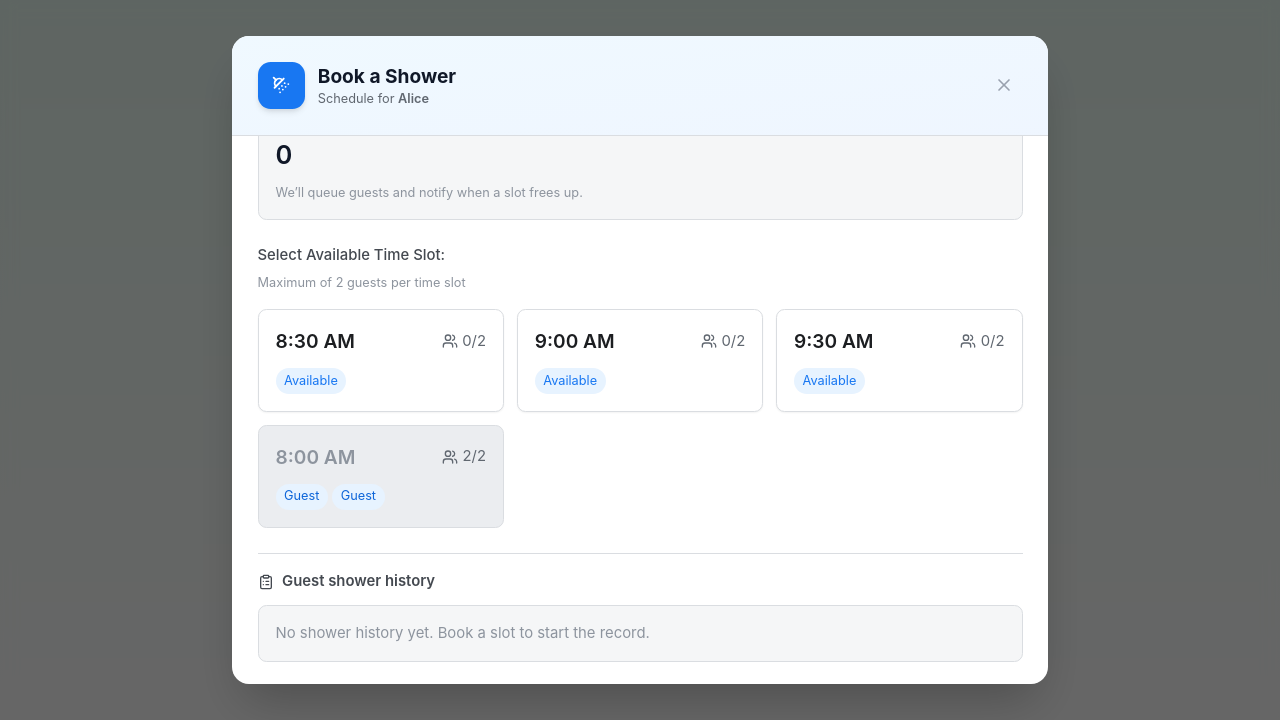
Scenario: ShowerBooking › handles booking error
The width and height of the screenshot is (1280, 720).
(page scrolled)
Click the button "8:30 AM 0/2 Available" at (381, 360), box [258, 309, 504, 412]
(page scrolled)
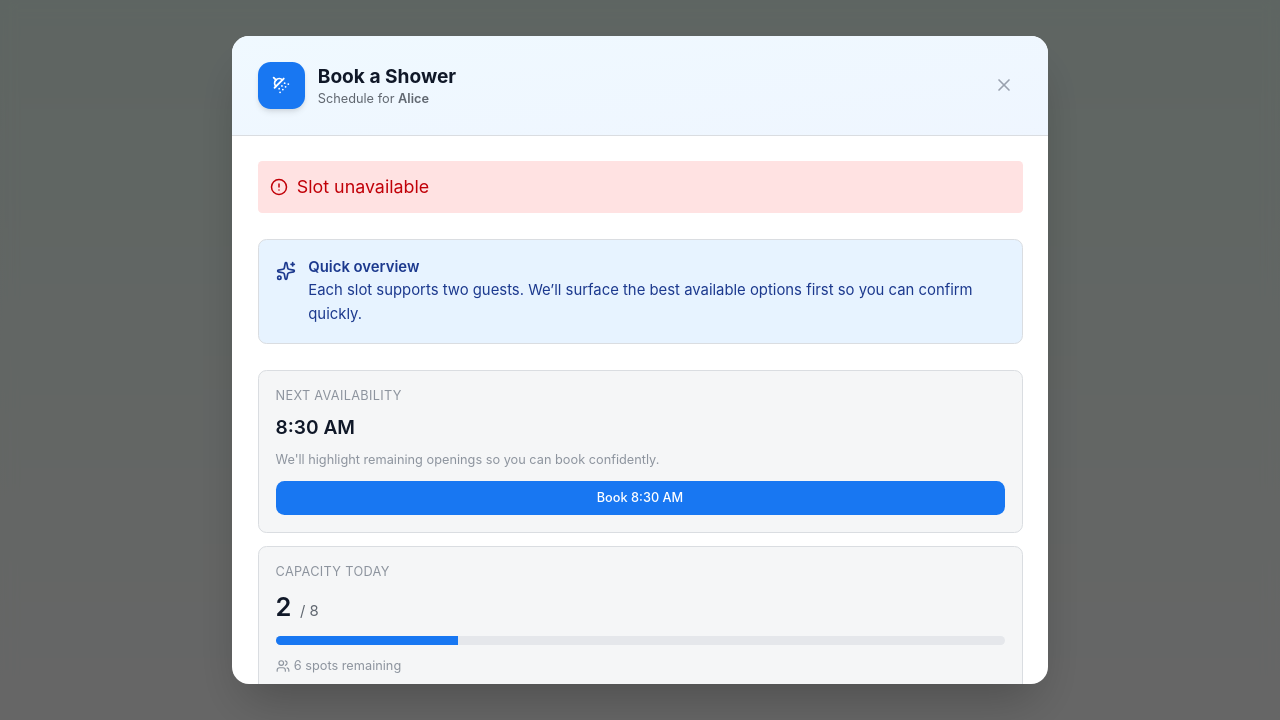
Expected: the text "Slot unavailable" is shown, [258, 161, 1022, 213]
